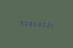eight: (27, 19, 31, 27), (37, 20, 41, 28)
nine: (17, 18, 21, 26)
one: (52, 21, 56, 29)
six: (32, 19, 36, 27)
two: (47, 20, 51, 29)
zero: (22, 18, 26, 27), (42, 20, 46, 28)
